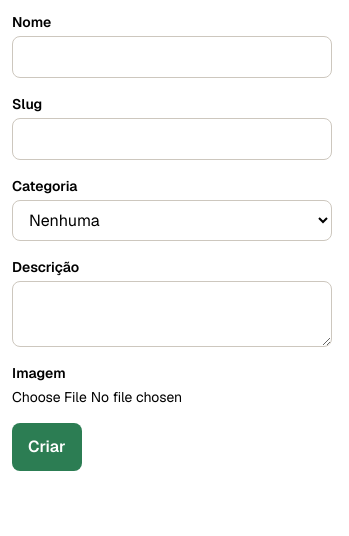
Test: ProductForm › UXA-002: submissão inválida marca aria-invalid e aria-describedby em Nome e Slug
The image size is (349, 536).
Step 1. Click the button "Criar" → x=47, y=447, box left=12, top=423, right=82, bottom=471
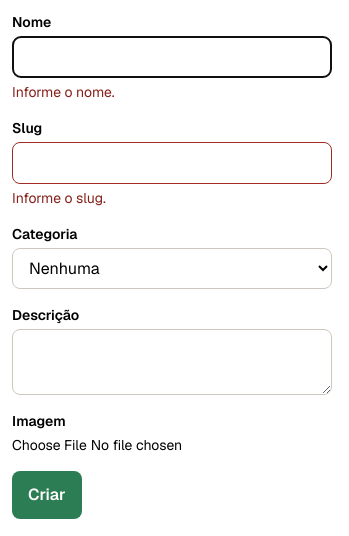
Now the message "Informe o nome." is shown, box left=12, top=83, right=115, bottom=101
Now the message "Informe o slug." is shown, box left=12, top=189, right=106, bottom=207
